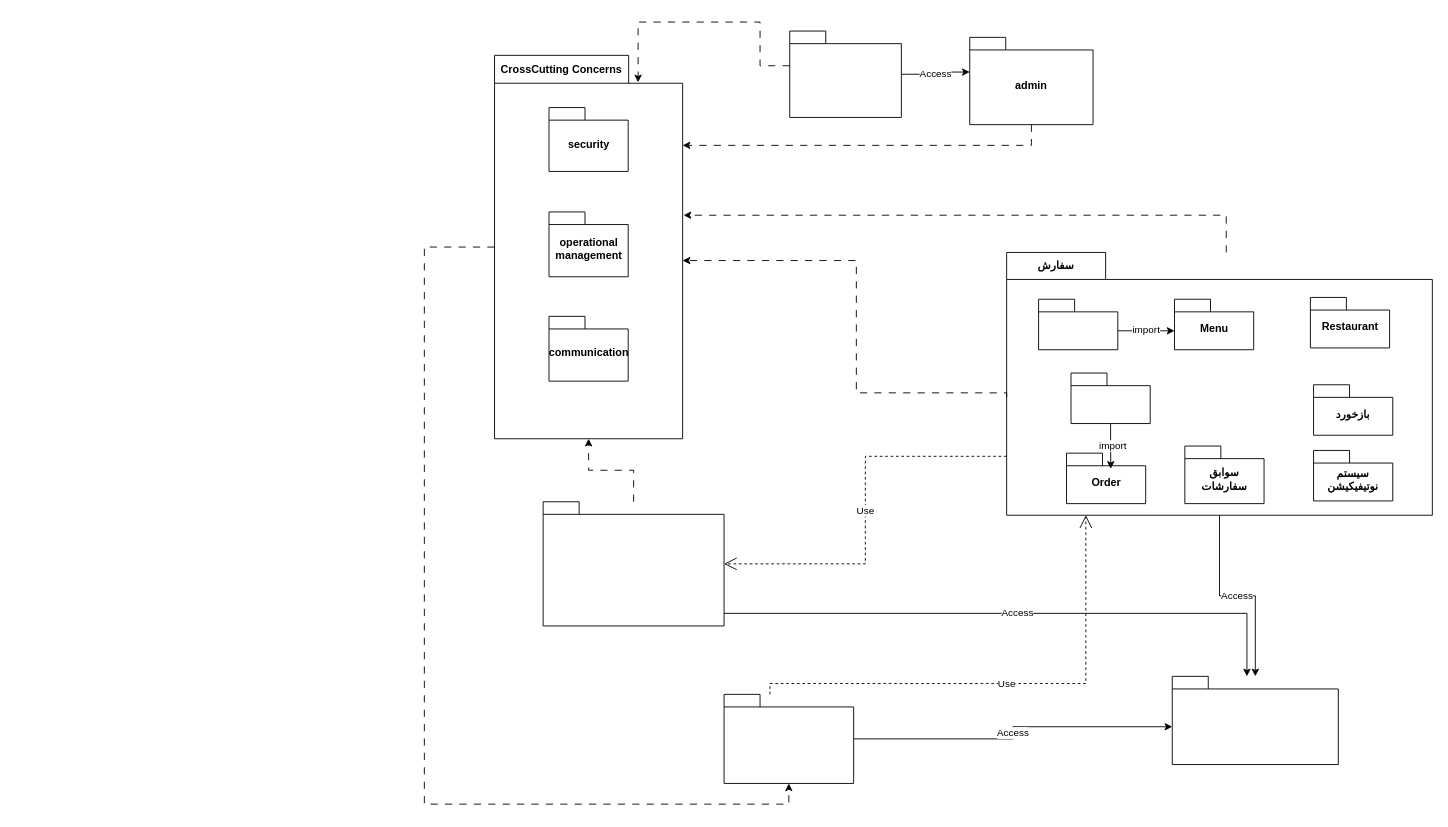
Some shapes in this 1448 by 827 pixel diagram are drawn without their labels. The centre of each missing label's shape, as x and y in pixels:
"MenuItem" goes at (1078,324).
"OrderItem" goes at (1110,398).
"users" goes at (845,73).
"سرویس‌های پشتیبانی" goes at (1254,720).
"سیستم پرداخت" goes at (633,563).
"سیستم پیک" goes at (788,738).
